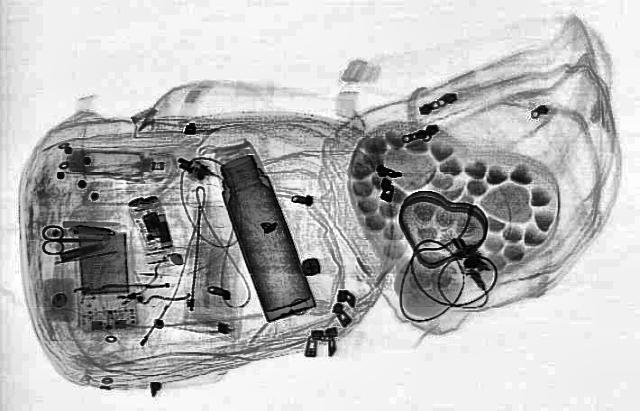Scissors: (38, 225, 102, 253)
